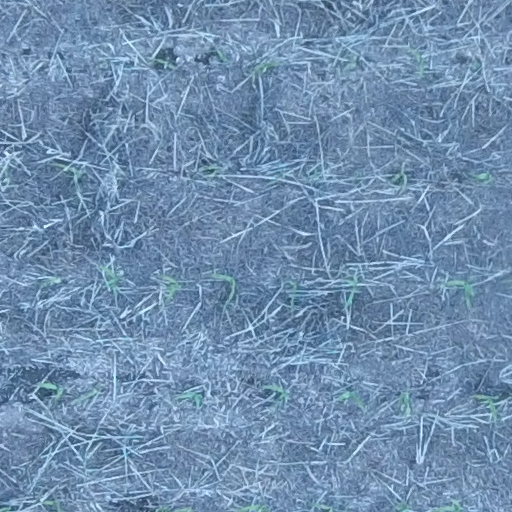planta: (209, 272, 236, 305), (444, 279, 473, 306), (158, 274, 184, 303), (99, 265, 121, 291), (475, 393, 496, 420), (38, 380, 64, 401), (58, 164, 84, 184), (410, 46, 426, 78), (338, 390, 366, 408), (177, 390, 204, 407), (252, 60, 279, 76), (265, 383, 289, 401), (344, 277, 357, 308), (398, 391, 410, 418), (77, 387, 100, 401), (288, 279, 299, 306), (390, 171, 408, 185), (149, 58, 174, 67), (204, 166, 221, 178), (40, 276, 60, 285), (215, 49, 228, 61)
